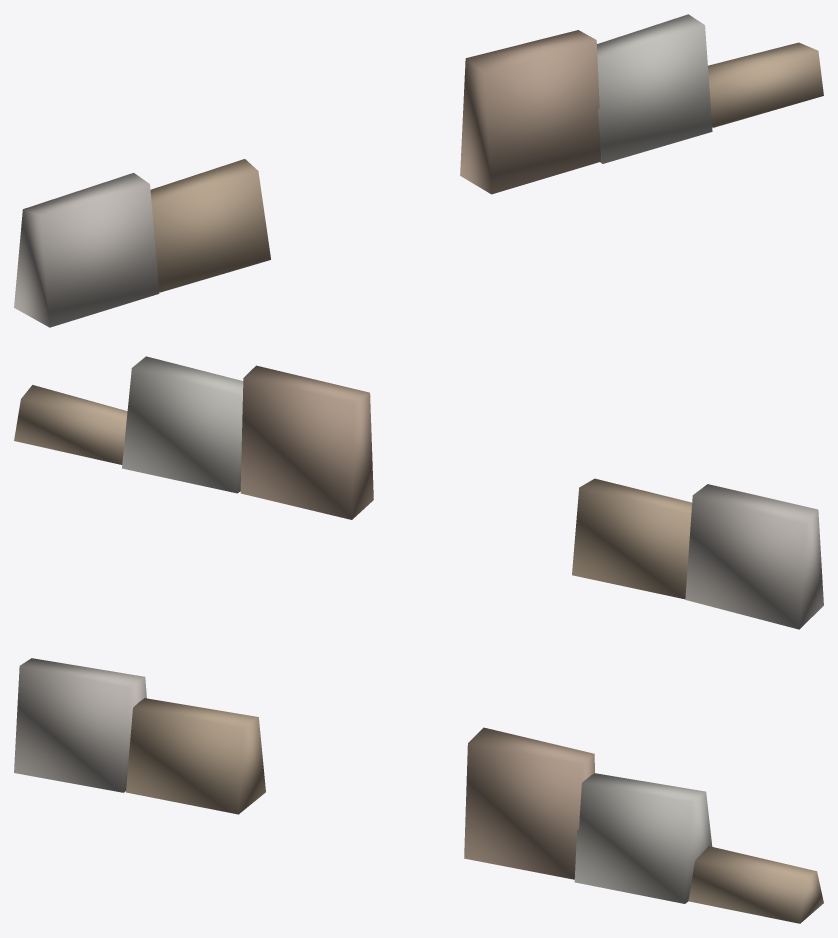
File: farm_8_18_far.glb
3 renders of one model, top to bottom at view 1: azimuth 30°, elevation 25°; view 2: azimuth 150°, elevation 25°; view 3: azimuth 330°, elevation 25°, orthographic. The views are drawn at different scales.
Visible parts, largest first — view 1: geometry_0; view 2: geometry_0; view 3: geometry_0.
Boxes of the visible parts, x1,y1,x2,y2 form: geometry_0: [14, 14, 823, 327]; geometry_0: [14, 356, 823, 629]; geometry_0: [14, 658, 823, 923].
Size of the model in its own units: 10.16 by 1.59 by 1.18.
